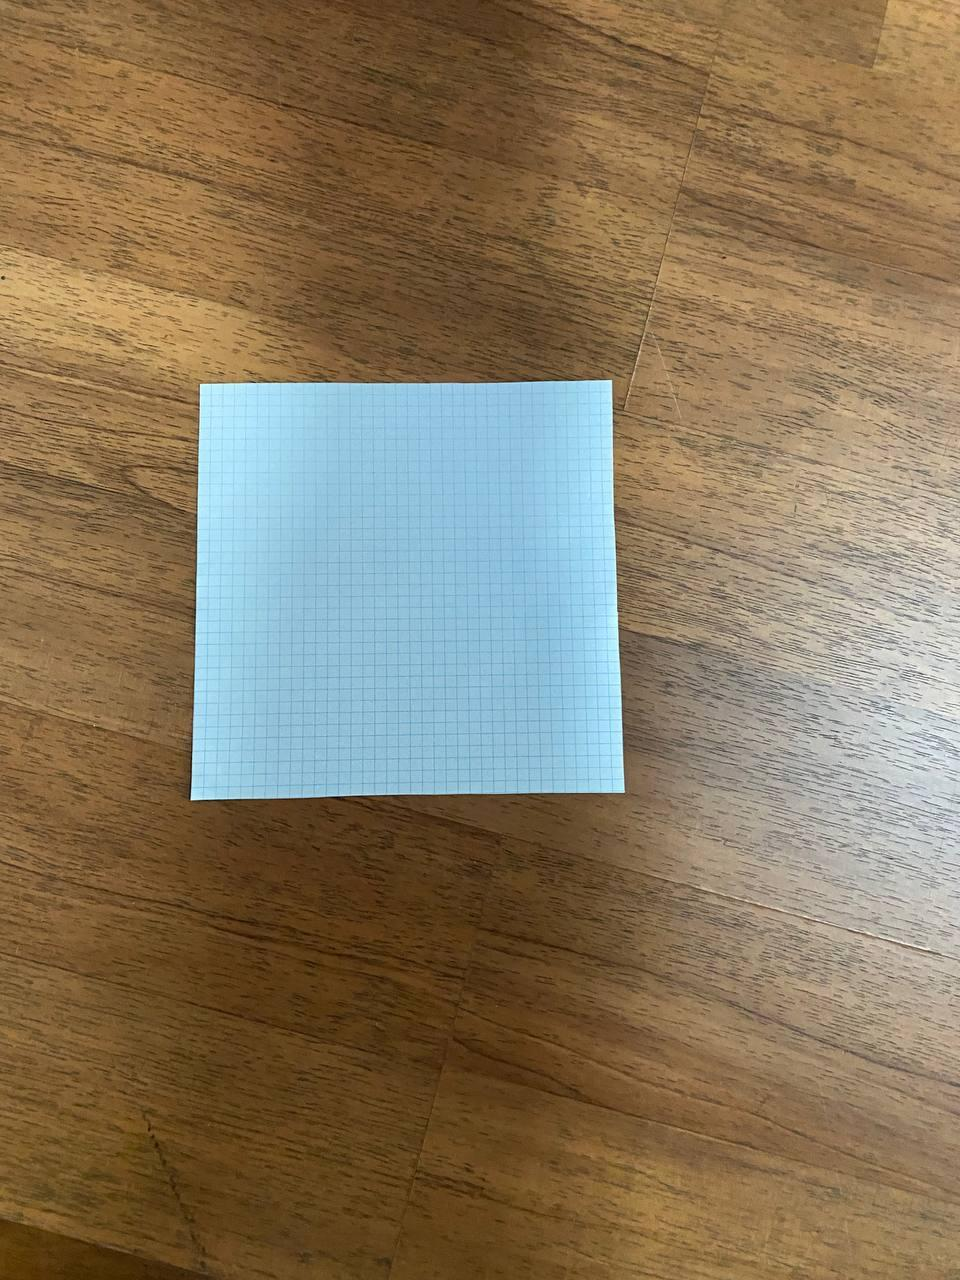grid: (179, 372, 636, 806)
